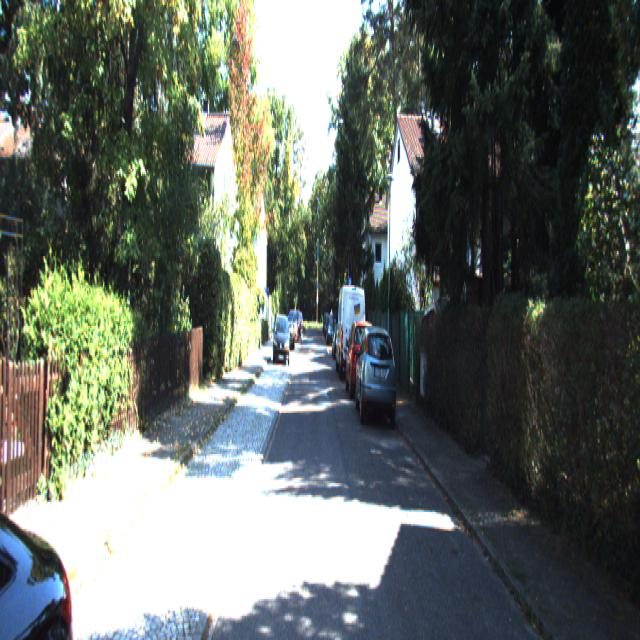Car: (0, 379, 89, 638), (354, 320, 396, 429), (336, 278, 366, 381), (346, 314, 380, 401), (273, 309, 290, 363)
